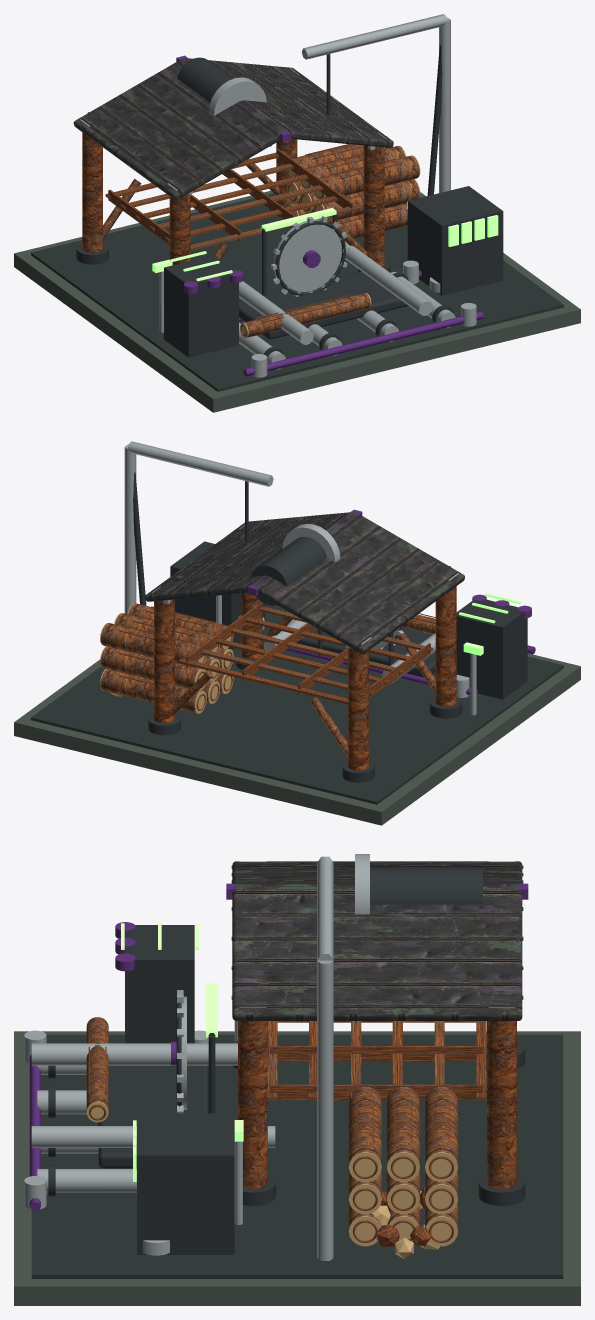
Rendered from timberline_v4_l04.glb.
The picture shows the model from 3 angles, top to bottom: view 1: azimuth 30°, elevation 25°; view 2: azimuth 150°, elevation 25°; view 3: azimuth 270°, elevation 25°; orthographic projection. The views are drawn at different scales.
Visible parts, largest first — view 1: timberline_v4_l04, stone_yard_base, hydraulic_sorter, auto_feed_motor, saw_carriage, circular_saw_blade, saw_rotor, conveyor_roller_0, saw_safety_light; view 2: timberline_v4_l04, stone_yard_base, auto_feed_motor, hydraulic_sorter, saw_carriage; view 3: timberline_v4_l04, stone_yard_base, hydraulic_sorter, auto_feed_motor, saw_carriage, conveyor_roller_30, conveyor_roller_10, saw_rotor, saw_safety_light, circular_saw_blade.
Part boxes in pixels (left/top/right/bottom): timberline_v4_l04: left=31, top=14, right=563, bottom=391; stone_yard_base: left=14, top=190, right=580, bottom=412; hydraulic_sorter: left=407, top=186, right=503, bottom=295; auto_feed_motor: left=164, top=255, right=238, bottom=357; saw_carriage: left=239, top=271, right=408, bottom=339; circular_saw_blade: left=273, top=219, right=341, bottom=291; saw_rotor: left=270, top=216, right=349, bottom=296; conveyor_roller_0: left=239, top=322, right=285, bottom=369; saw_safety_light: left=261, top=208, right=336, bottom=231; timberline_v4_l04: left=31, top=441, right=563, bottom=804; stone_yard_base: left=14, top=653, right=580, bottom=825; auto_feed_motor: left=456, top=599, right=527, bottom=699; hydraulic_sorter: left=170, top=541, right=265, bottom=649; saw_carriage: left=296, top=627, right=435, bottom=677; timberline_v4_l04: left=24, top=854, right=563, bottom=1278; stone_yard_base: left=14, top=1031, right=580, bottom=1305; hydraulic_sorter: left=137, top=1113, right=234, bottom=1254; auto_feed_motor: left=125, top=925, right=194, bottom=1043; saw_carriage: left=98, top=1065, right=208, bottom=1168; conveyor_roller_30: left=37, top=1169, right=136, bottom=1192; conveyor_roller_10: left=37, top=1090, right=86, bottom=1114; saw_rotor: left=171, top=990, right=183, bottom=1113; saw_safety_light: left=206, top=983, right=217, bottom=1037; circular_saw_blade: left=181, top=996, right=186, bottom=1109.
Bounding box in the file's own units: 6.5 × 3.96 × 6.1.
11 materials, 3 textured.
